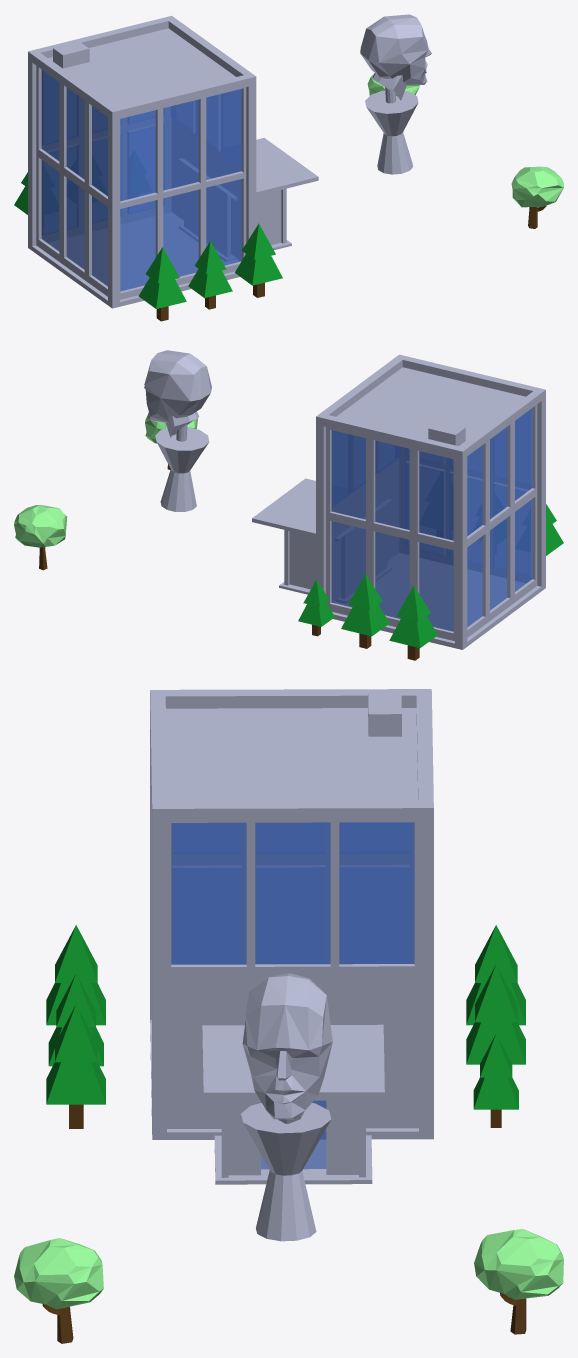
Rendered from About.glb.
The picture shows the model from 3 angles, top to bottom: view 1: azimuth 30°, elevation 25°; view 2: azimuth 150°, elevation 25°; view 3: azimuth 270°, elevation 25°; orthographic projection. The views are drawn at different scales.
Parts seen in each view (by area): view 1: Office, statue.001, tree.060, tree.062, tree.064, tree.063; view 2: Office, statue.001, tree.061, tree.065, tree.066, tree.067, tree.062, tree.060; view 3: Office, statue.001, tree.061, tree.060, tree.064, tree.066, tree.062, tree.067, tree.065, tree.063.
Boxes of the visible parts, left/top/right/bottom form: Office: left=28, top=15, right=318, bottom=308; statue.001: left=360, top=14, right=431, bottom=174; tree.060: left=511, top=166, right=563, bottom=228; tree.062: left=139, top=247, right=186, bottom=321; tree.064: left=235, top=223, right=282, bottom=297; tree.063: left=188, top=241, right=232, bottom=309; Office: left=252, top=354, right=545, bottom=649; statue.001: left=144, top=350, right=211, bottom=511; tree.061: left=14, top=505, right=67, bottom=570; tree.065: left=389, top=585, right=437, bottom=660; tree.066: left=341, top=574, right=389, bottom=648; tree.067: left=298, top=579, right=334, bottom=636; tree.062: left=546, top=504, right=563, bottom=555; tree.060: left=145, top=416, right=197, bottom=469; Office: left=150, top=689, right=433, bottom=1184; statue.001: left=241, top=973, right=332, bottom=1241; tree.061: left=474, top=1229, right=563, bottom=1334; tree.060: left=14, top=1238, right=103, bottom=1343; tree.064: left=46, top=1004, right=105, bottom=1128; tree.066: left=466, top=964, right=525, bottom=1064; tree.062: left=46, top=925, right=105, bottom=1025; tree.067: left=473, top=1033, right=518, bottom=1127; tree.065: left=466, top=925, right=525, bottom=1025; tree.063: left=48, top=973, right=103, bottom=1066.
Bounding box in the file's own units: 11.36 × 5.25 × 7.62.
